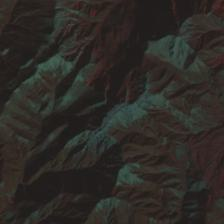landslides: (145, 3, 176, 28), (74, 34, 96, 65), (57, 20, 82, 44), (63, 38, 91, 58), (188, 29, 220, 41), (91, 172, 113, 188), (7, 23, 34, 36), (1, 33, 26, 47), (97, 177, 109, 200), (56, 174, 68, 193), (86, 172, 96, 194), (79, 173, 90, 190), (145, 125, 158, 138), (10, 156, 24, 167), (12, 142, 23, 156), (108, 14, 114, 35), (115, 47, 121, 65)
